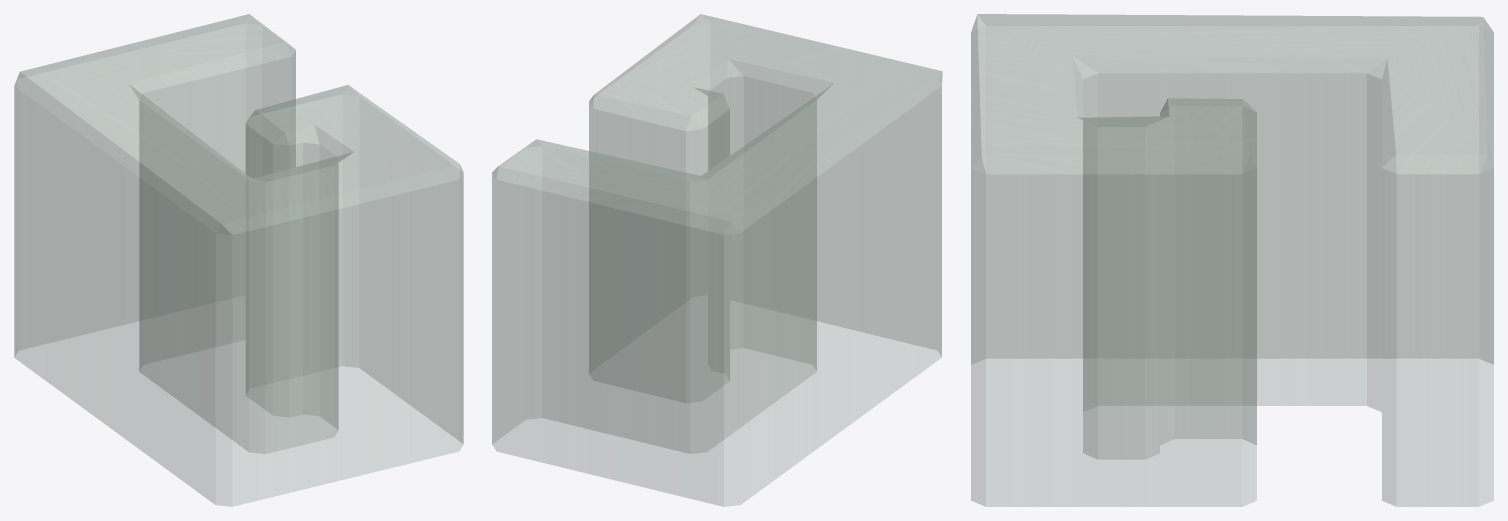
3 views of the same model, side by side, from view 1: azimuth 30°, elevation 25°; view 2: azimuth 150°, elevation 25°; view 3: azimuth 270°, elevation 25° (orthographic). The views are drawn at different scales.
Visible parts, largest first — view 1: G; view 2: G; view 3: G.
Part boxes in pixels (x1,y1,x2,y2): G: [14, 14, 463, 506]; G: [492, 14, 942, 506]; G: [971, 14, 1493, 506].
Size of the model in its own units: 0.4041 by 0.44 by 0.6019.
1 material, 1 textured.
